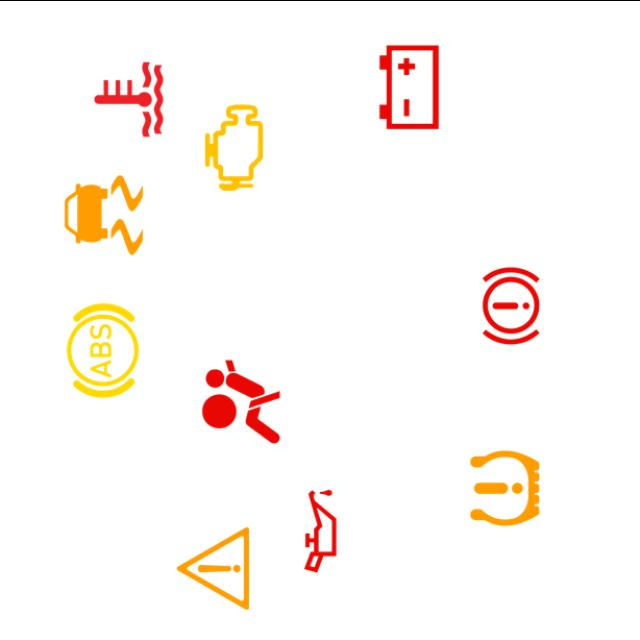Anti Lock Braking System: (51, 298, 154, 401)
Braking System Issue: (460, 254, 563, 356)
Charging System Issue: (358, 34, 460, 138)
Check Engine: (182, 95, 286, 198)
Electronic Stability Problem -ESP-: (52, 162, 155, 266)
Engine Overheating Warning Light: (77, 47, 180, 150)
Low Engine Oil Warning Light: (269, 478, 372, 582)
Low Tire Pressure Warning Light: (454, 436, 556, 539)
Master warning light: (162, 516, 264, 619)
SRS-Airbag: (190, 350, 293, 452)
